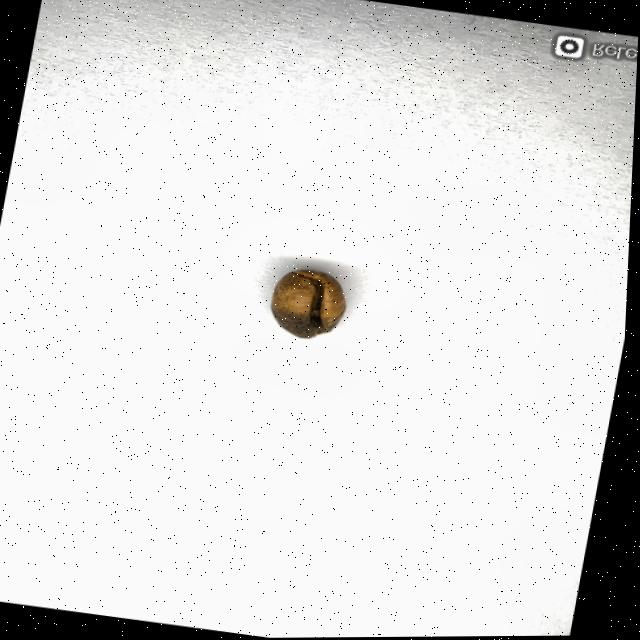Scorched: (266, 265, 356, 346)
